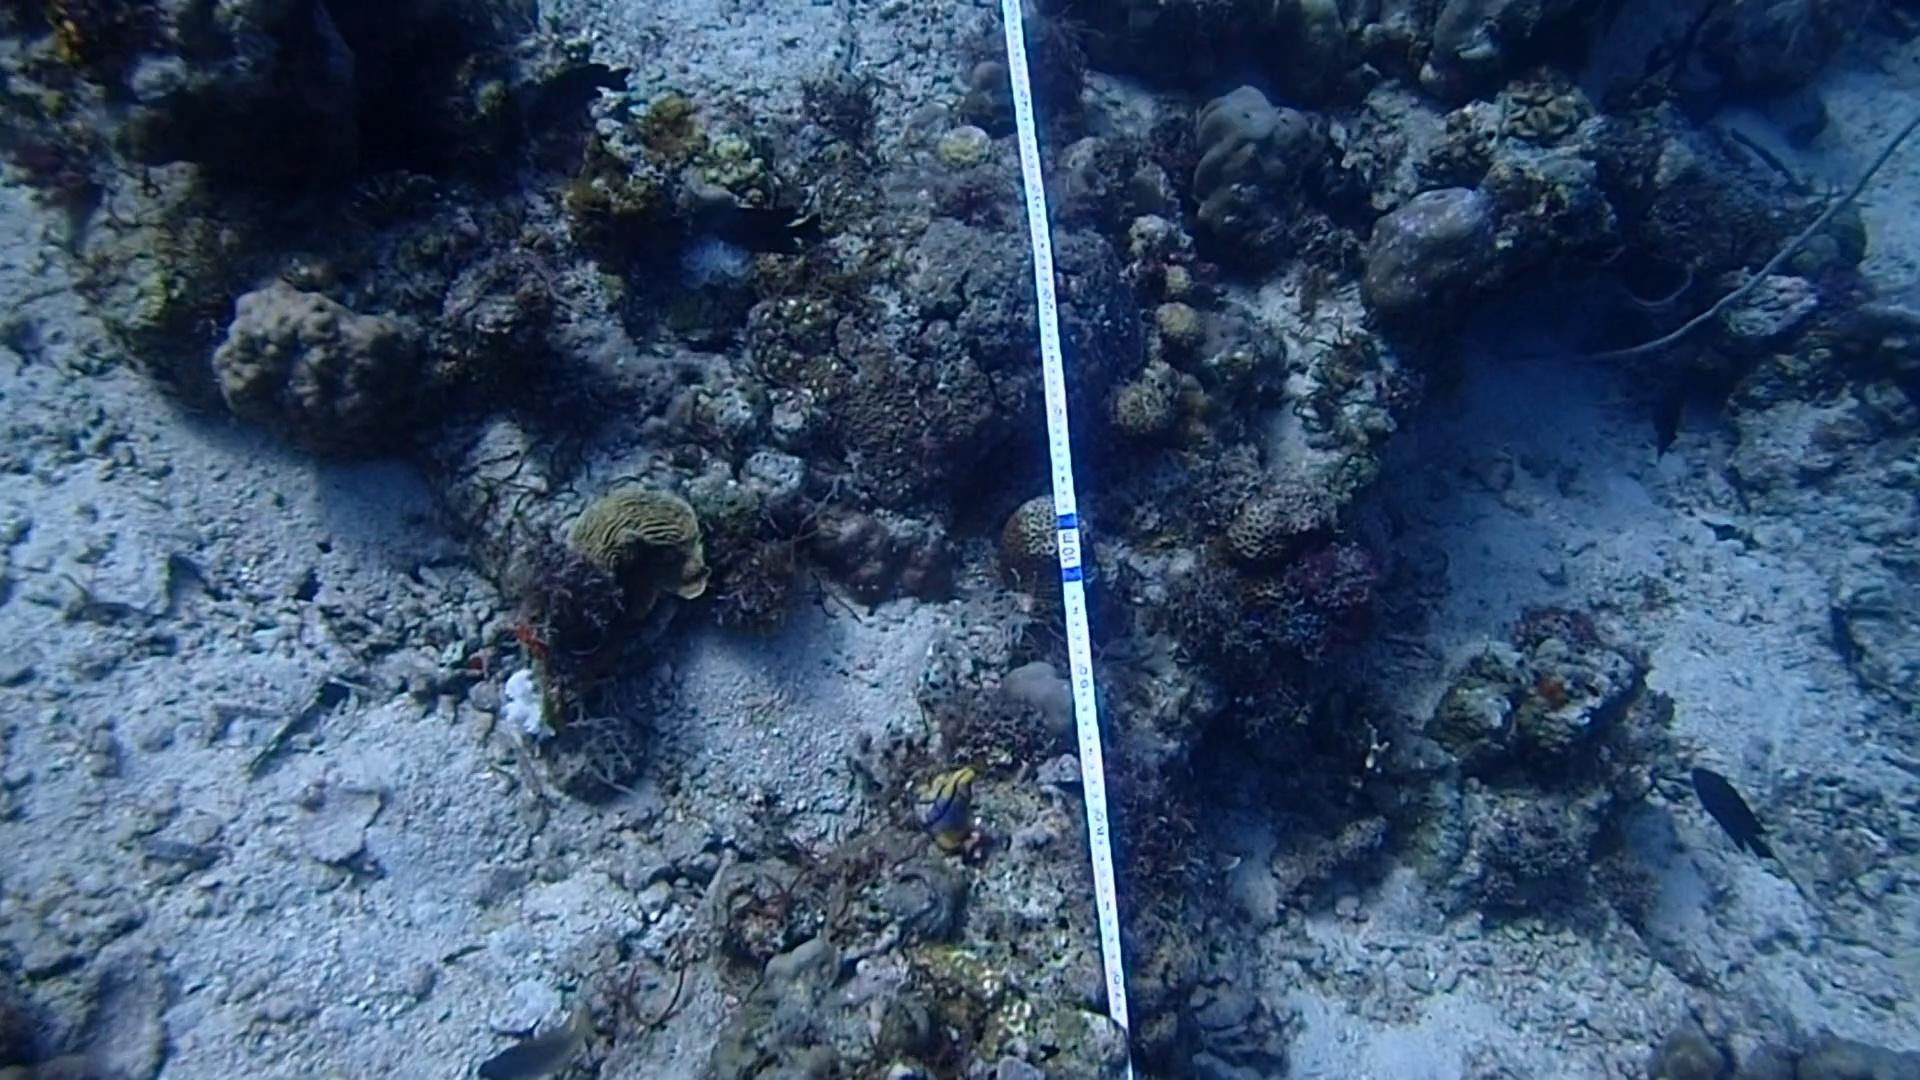Dark Fish: (1677, 749, 1776, 869), (708, 191, 827, 265), (524, 49, 629, 117), (1639, 368, 1696, 459)
Light Fish: (465, 998, 597, 1080)
